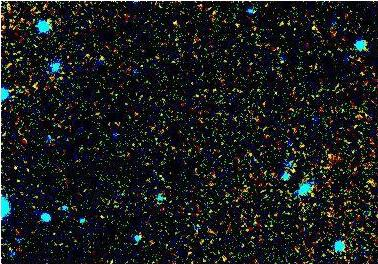star: (281, 155, 311, 185)
